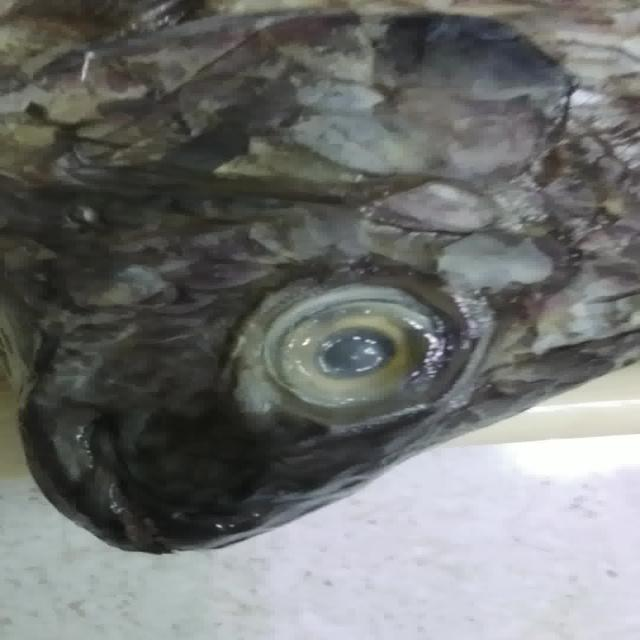Non-Fresh: (225, 263, 488, 429)
